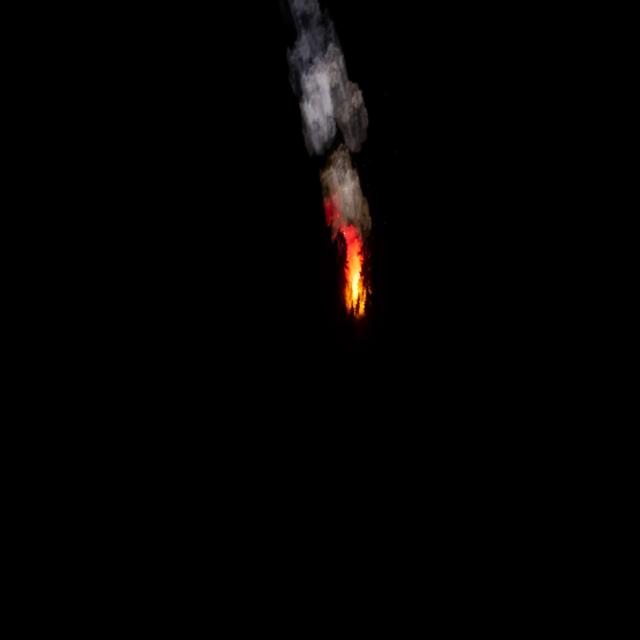fire: (342, 222, 370, 323)
smoke: (290, 3, 368, 222)
